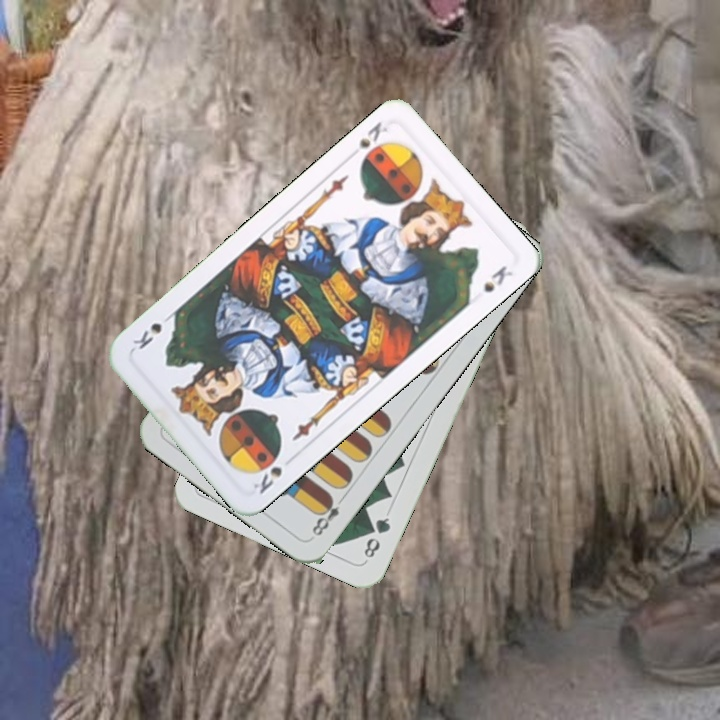E8: (307, 491, 349, 539)
G8: (359, 513, 393, 564)
SK: (343, 117, 391, 162), (249, 462, 285, 497)
